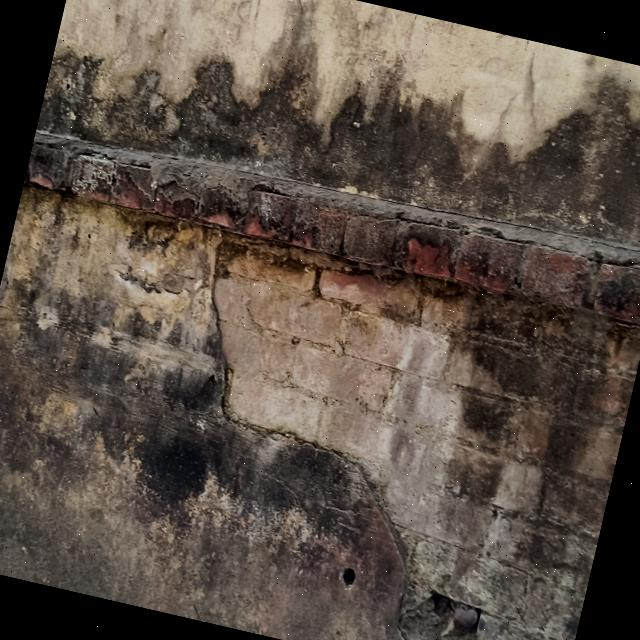exposed brickwork: (23, 140, 640, 640)
pollution -moisture induced blackening: (0, 188, 409, 640), (35, 0, 640, 252)
